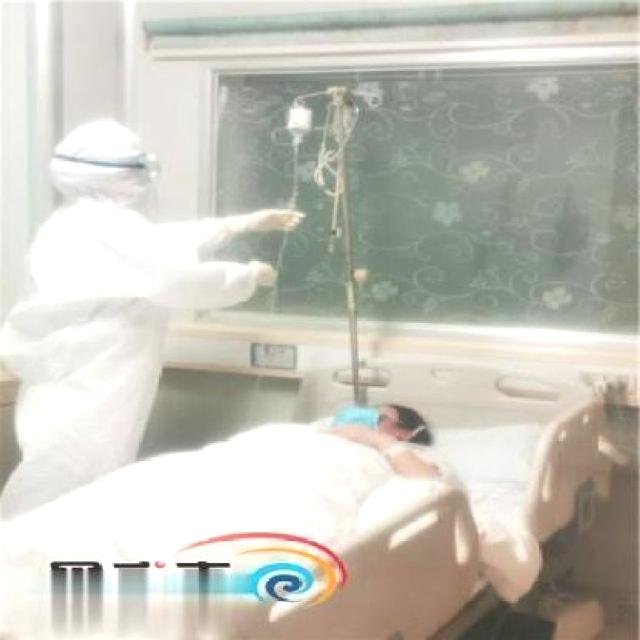hand_glove: (251, 207, 306, 236), (249, 258, 277, 290)
hand_noglove: (322, 422, 388, 440)
person: (0, 129, 316, 475), (74, 389, 440, 640)
